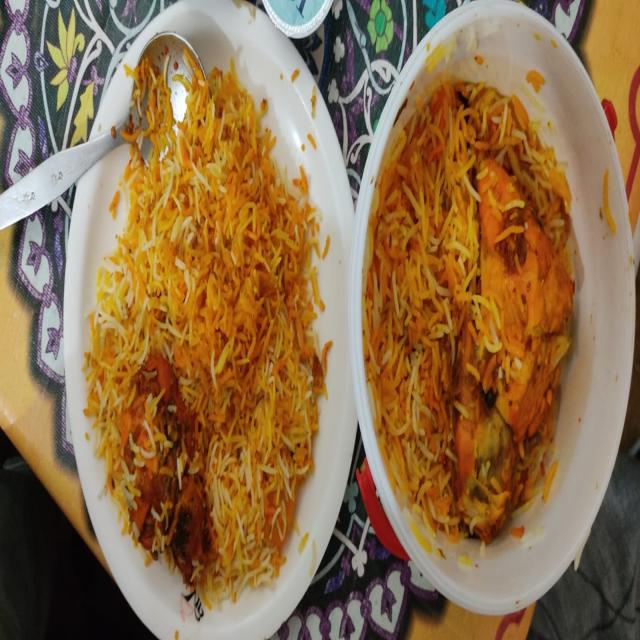Biryani: (93, 116, 317, 562), (370, 102, 603, 510)
